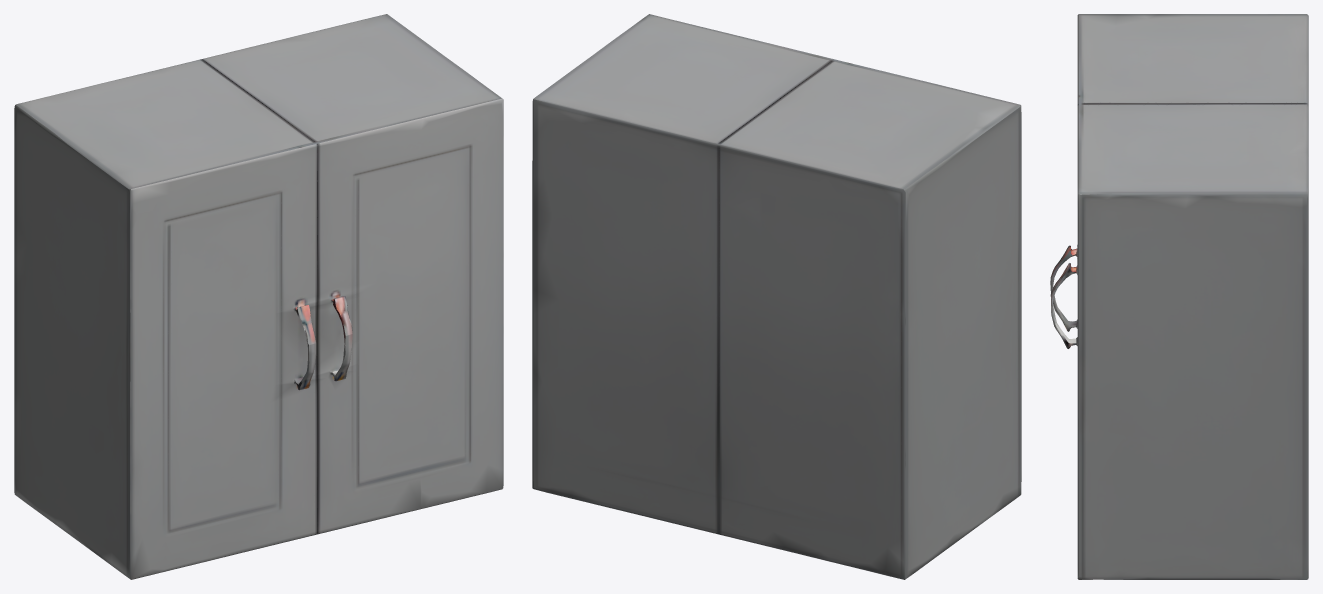
Rendered from PlacardSdb2_3D_textured.glb.
3 renders of one model, left to right at view 1: azimuth 30°, elevation 25°; view 2: azimuth 150°, elevation 25°; view 3: azimuth 270°, elevation 25°, orthographic.
Parts seen in each view (by area): view 1: temp_mesh.ply; view 2: temp_mesh.ply; view 3: temp_mesh.ply.
Boxes of the visible parts, bbox=[...] form: temp_mesh.ply: bbox=[14, 14, 503, 579]; temp_mesh.ply: bbox=[532, 14, 1021, 579]; temp_mesh.ply: bbox=[1050, 14, 1308, 579].
Size of the model in its own units: 1.97 by 1.97 by 1.19.
1 material, 1 textured.
